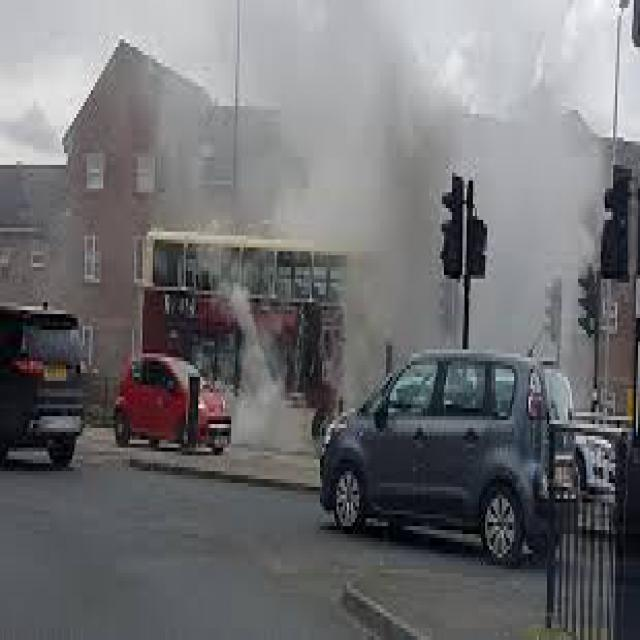smoke: (268, 4, 500, 326)
